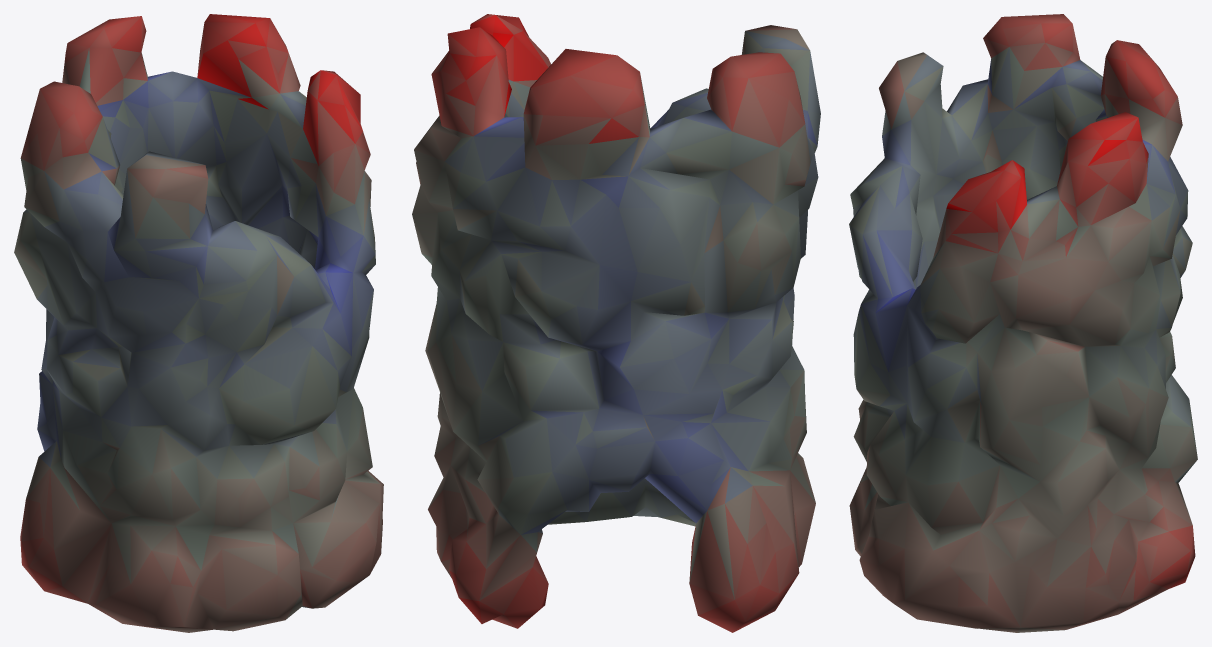
The model's file is RuinedTower.fbx.
3 renders of one model, left to right at view 1: azimuth 30°, elevation 25°; view 2: azimuth 150°, elevation 25°; view 3: azimuth 270°, elevation 25°, orthographic. The views are drawn at different scales.
Visible parts, largest first — view 1: Mesh; view 2: Mesh; view 3: Mesh.
Boxes of the visible parts, bbox=[...] form: Mesh: bbox=[14, 14, 383, 632]; Mesh: bbox=[412, 14, 820, 632]; Mesh: bbox=[849, 14, 1197, 632].
Bounding box in the file's own units: 862 × 1297 × 803.
